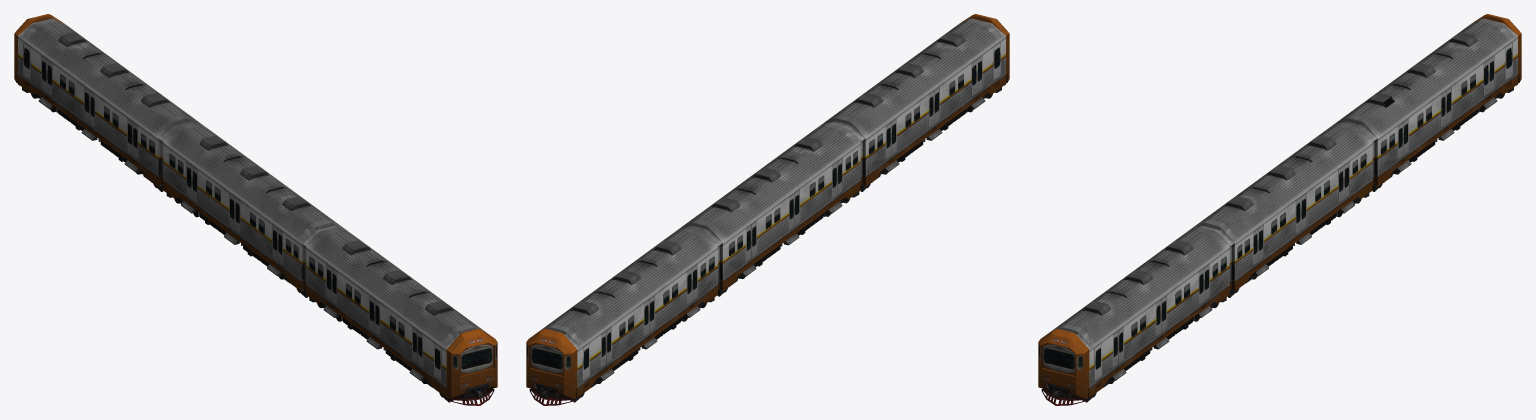
The model's file is electrictrain_old.obj.
3 views of the same model, side by side, from view 1: azimuth 30°, elevation 25°; view 2: azimuth 150°, elevation 25°; view 3: azimuth 330°, elevation 25° (orthographic).
Parts seen in each view (by area): view 1: ElectricTrain; view 2: ElectricTrain; view 3: ElectricTrain.
Part boxes in pixels (bbox=[...]): ElectricTrain: bbox=[14, 14, 497, 405]; ElectricTrain: bbox=[526, 14, 1009, 405]; ElectricTrain: bbox=[1038, 14, 1521, 405].
Size of the model in its own units: 4.78 by 6.22 by 70.56.
Materials: 1 (1 with a texture image).
